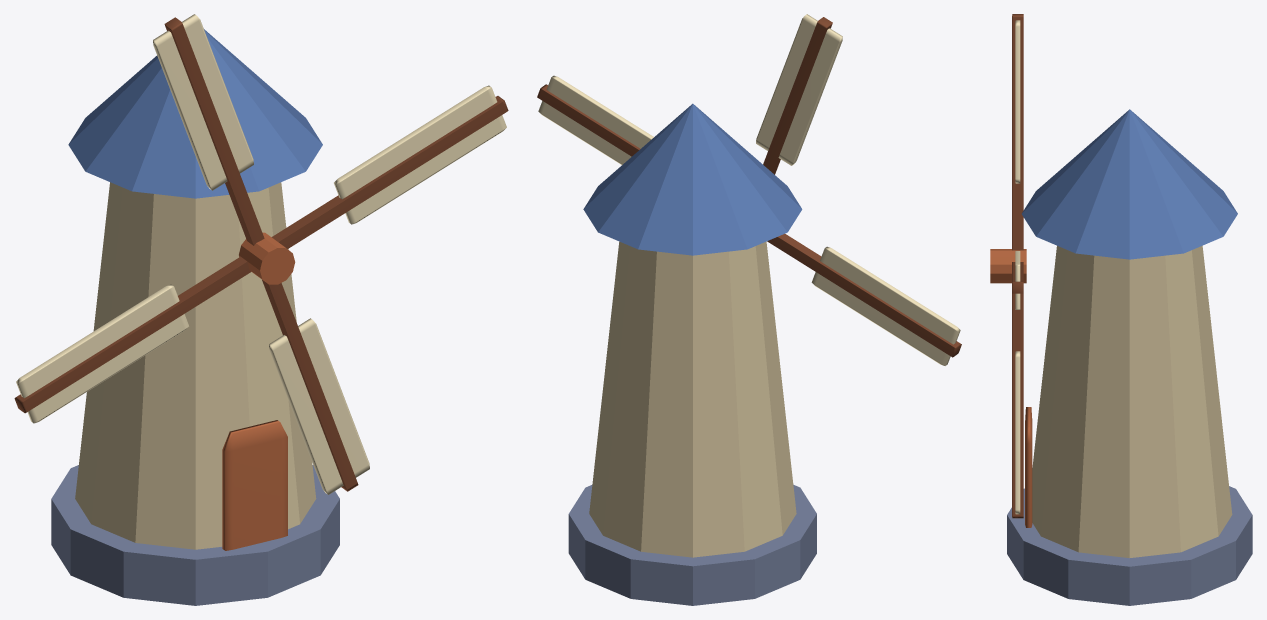
File: windmill.glb
3 renders of one model, left to right at view 1: azimuth 30°, elevation 25°; view 2: azimuth 150°, elevation 25°; view 3: azimuth 270°, elevation 25°, orthographic. The views are drawn at different scales.
Visible parts, largest first — view 1: Tapered mill, Mill cap, Mill stone base, Mill door, Mill sail, Mill sail.002, Mill sail.001, Mill sail.003, Sail spar.002, Sail spar, Sail spar.001, Sail spar.003 (+1 smaller); view 2: Tapered mill, Mill cap, Mill stone base, Mill sail.002, Mill sail.001, Mill sail, Sail spar.002, Sail spar.001, Sail spar; view 3: Tapered mill, Mill cap, Mill stone base, Sail spar.001, Sail spar.003, Windmill axle, Mill sail.001, Mill sail.003, Mill door.
Boxes of the visible parts, x1,y1,x2,y2 form: Tapered mill: (75, 182, 316, 549); Mill cap: (68, 29, 322, 198); Mill stone base: (51, 465, 339, 605); Mill door: (222, 420, 287, 550); Mill sail: (334, 85, 506, 224); Mill sail.002: (16, 284, 188, 423); Mill sail.001: (153, 14, 253, 190); Mill sail.003: (269, 318, 369, 494); Sail spar.002: (14, 256, 251, 413); Sail spar: (271, 96, 508, 248); Sail spar.001: (164, 17, 264, 245); Sail spar.003: (262, 280, 358, 491); Tapered mill: (589, 241, 796, 557); Mill cap: (583, 103, 802, 255); Mill stone base: (568, 484, 816, 605); Mill sail.002: (811, 246, 960, 365); Mill sail.001: (756, 14, 842, 165); Mill sail: (538, 75, 653, 164); Sail spar.002: (767, 234, 961, 357); Sail spar.001: (763, 17, 832, 174); Sail spar: (537, 84, 640, 156); Tapered mill: (1032, 245, 1232, 557); Mill cap: (1021, 109, 1237, 259); Mill stone base: (1007, 486, 1252, 605); Sail spar.001: (1012, 14, 1023, 250); Sail spar.003: (1012, 293, 1023, 518); Windmill axle: (990, 249, 1026, 283); Mill sail.001: (1015, 20, 1020, 183); Mill sail.003: (1015, 351, 1020, 514); Mill door: (1025, 407, 1032, 527).
Size of the model in its own units: 6.64 by 7.72 by 3.63.
